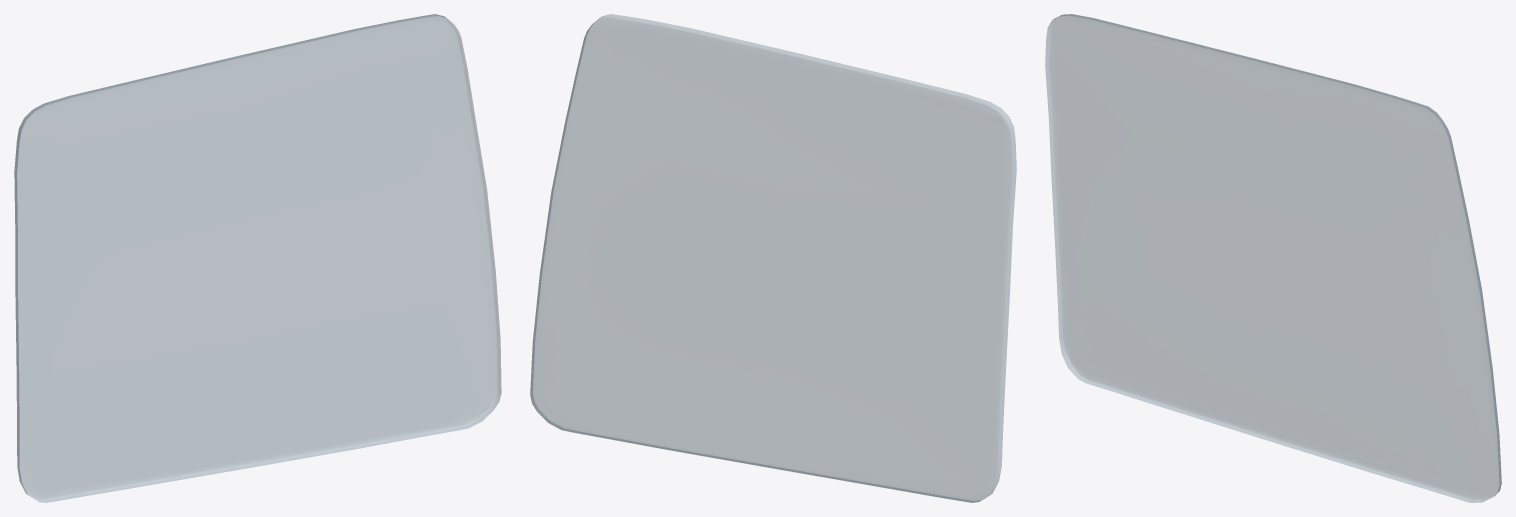
3 views of the same model, side by side, from view 1: azimuth 30°, elevation 25°; view 2: azimuth 150°, elevation 25°; view 3: azimuth 330°, elevation 25° (orthographic). The views are drawn at different scales.
Visible parts, largest first — view 1: SM_ActrosFiretruck_Door_FL_Glass_Ext1; view 2: SM_ActrosFiretruck_Door_FL_Glass_Ext1; view 3: SM_ActrosFiretruck_Door_FL_Glass_Ext1.
Part boxes in pixels (left/top/right/bottom): SM_ActrosFiretruck_Door_FL_Glass_Ext1: left=14, top=14, right=501, bottom=502; SM_ActrosFiretruck_Door_FL_Glass_Ext1: left=530, top=14, right=1016, bottom=502; SM_ActrosFiretruck_Door_FL_Glass_Ext1: left=1045, top=14, right=1501, bottom=502.
Bounding box in the file's own units: 0.9689 × 0.8218 × 0.0447.
